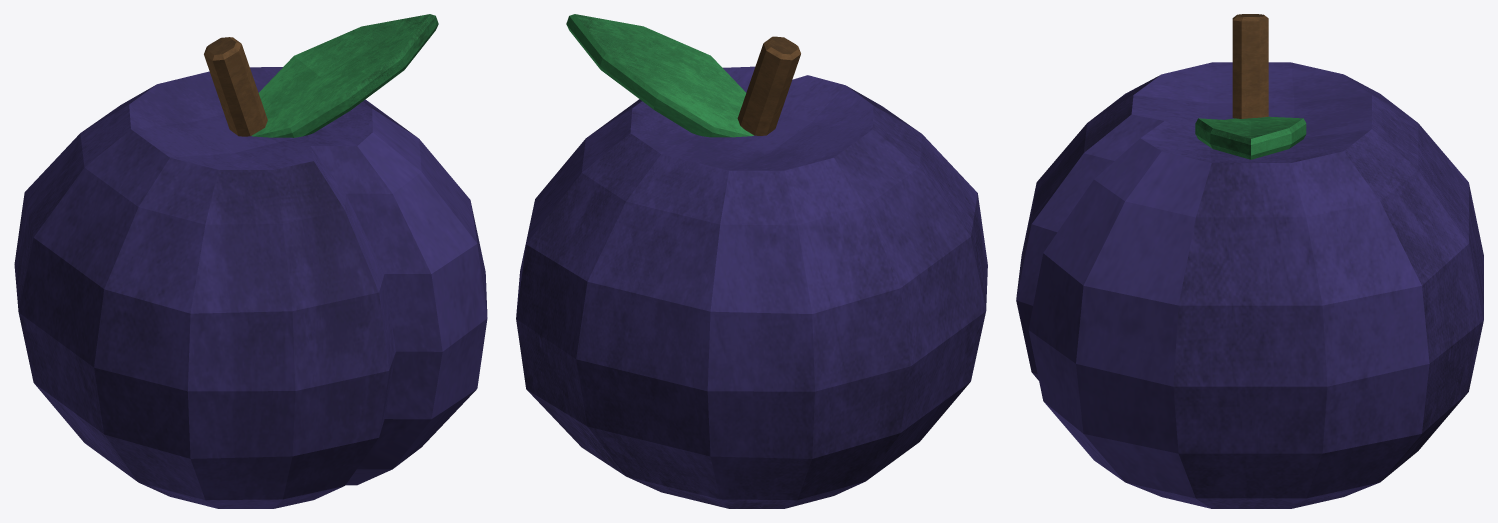
The model's file is Plum.fbx.
The picture shows the model from 3 angles, left to right: view 1: azimuth 30°, elevation 25°; view 2: azimuth 150°, elevation 25°; view 3: azimuth 270°, elevation 25°; orthographic projection. The views are drawn at different scales.
Parts seen in each view (by area): view 1: Pruna, Fulla, Palo; view 2: Pruna, Fulla, Palo; view 3: Pruna, Palo, Fulla.
Part boxes in pixels (box(x1,y1,x2,y2)): Pruna: box(14, 67, 487, 508); Fulla: box(251, 14, 438, 137); Palo: box(204, 37, 267, 136); Pruna: box(516, 66, 987, 508); Fulla: box(566, 14, 753, 137); Palo: box(737, 36, 800, 135); Pruna: box(1016, 62, 1483, 508); Palo: box(1232, 14, 1268, 118); Fulla: box(1195, 116, 1306, 159).
Bounding box in the file's own units: 81.8 × 84.48 × 82.93.
Materials: 3 (3 with a texture image).
